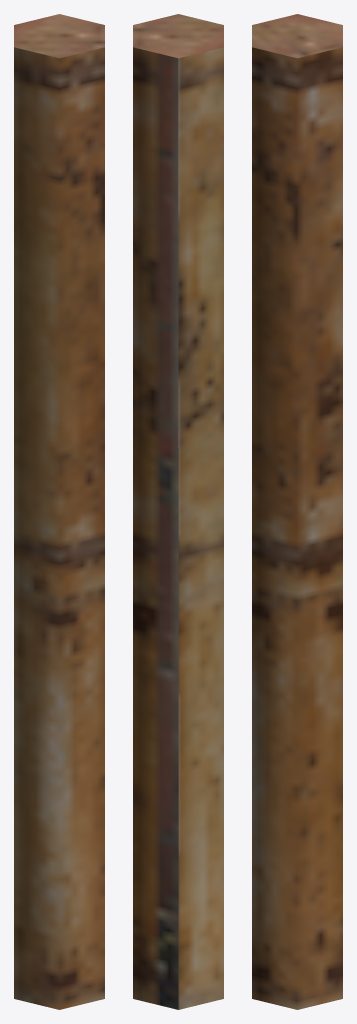
File: Pipe Short.fbx
3 views of the same model, side by side, from view 1: azimuth 30°, elevation 25°; view 2: azimuth 210°, elevation 25°; view 3: azimuth 330°, elevation 25° (orthographic).
Visible parts, largest first — view 1: Cylinder004; view 2: Cylinder004; view 3: Cylinder004.
Boxes of the visible parts, left/top/right/bottom form: Cylinder004: left=14, top=14, right=104, bottom=1009; Cylinder004: left=133, top=14, right=223, bottom=1009; Cylinder004: left=252, top=14, right=342, bottom=1009.
Size of the model in its own units: 20 by 200 by 17.32.
1 material, 1 textured.
